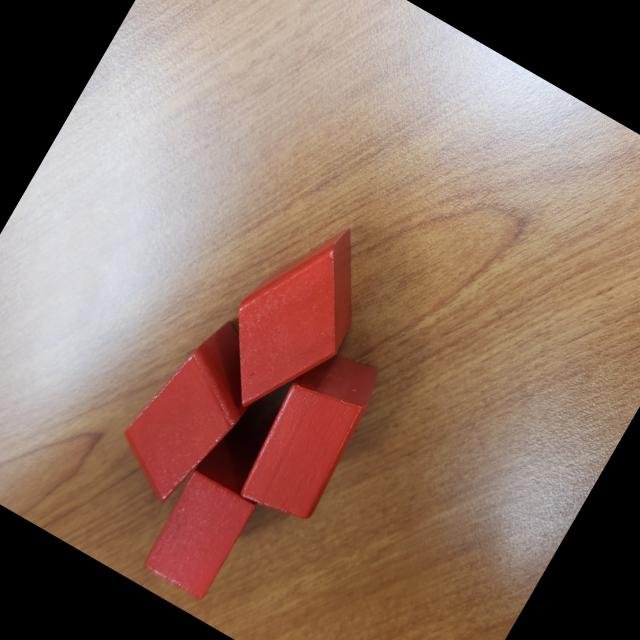red: (194, 199, 394, 437), (101, 302, 282, 520), (229, 336, 391, 533), (136, 464, 260, 604)
